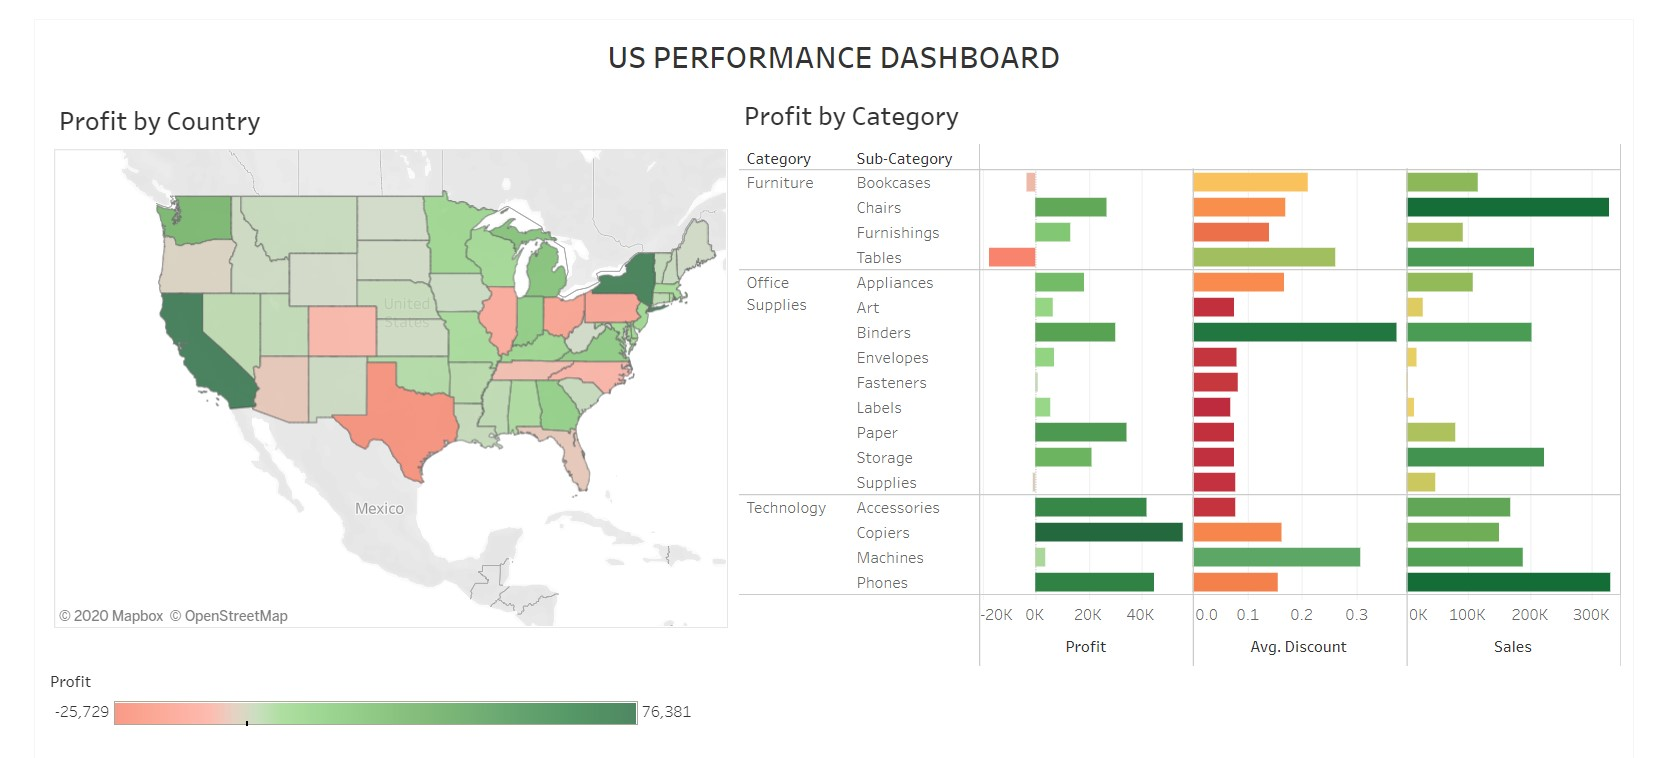

This screenshot's page, from the dashboard's own definition file:
{"tool":"tableau","page":{"name":"US Performance Dashboard","canvas":[1000,1000],"units":"permille","ordinal":0},"visuals":[{"type":"worksheet","box":[0,0,1000,1000]},{"type":"worksheet","param":"vert","box":[7.3,11.1,985.4,977.8]},{"type":"worksheet","box":[7.3,11.1,985.4,68]},{"type":"worksheet","box":[7.3,79.2,985.4,909.7]},{"type":"worksheet","title":"Profit by Country","mark":"Automatic","box":[11.8,100,467.2,658.3]},{"type":"worksheet","title":"Profit by Country","mark":"Automatic","param":"[federated.09kfg3702vssl9106fnf80fjmlj6].[sum:Profit:qk]","box":[8.2,786.1,468.1,122.2]}]}

Visuals, with their boxes on the dashboard's canvas, which has no fixed pixel size, in thousandths of its width and height (x1, y1, x2, y2). These are canvas units, not pixel positions in the 1671x758 screenshot, which may show the page scaled, cropped or inside an application window:
worksheet: box=[0, 0, 1000, 1000]
worksheet: box=[7, 11, 993, 989]
worksheet: box=[7, 11, 993, 79]
worksheet: box=[7, 79, 993, 989]
"Profit by Country" worksheet: box=[12, 100, 479, 758]
"Profit by Country" worksheet: box=[8, 786, 476, 908]
